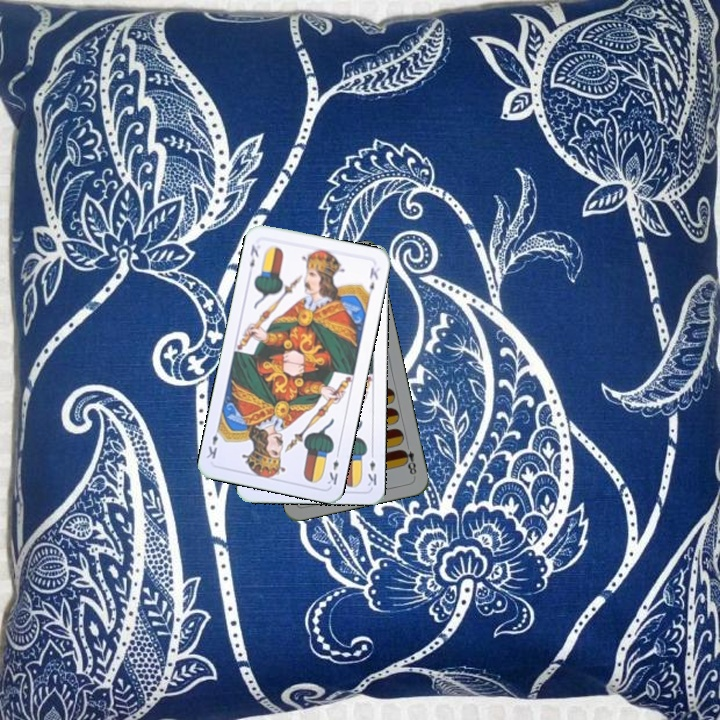E8: (398, 439, 419, 479)
EK: (323, 447, 342, 487), (364, 448, 379, 488), (246, 241, 261, 270)
